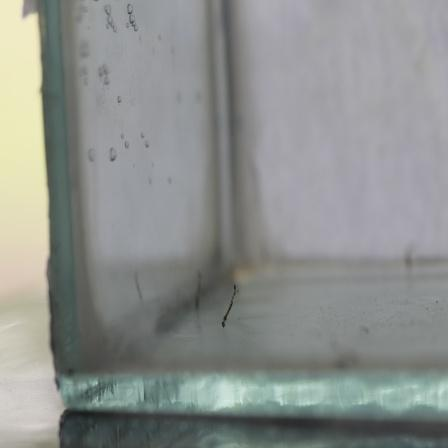Jentik-Nyamuk: (219, 281, 244, 333)
